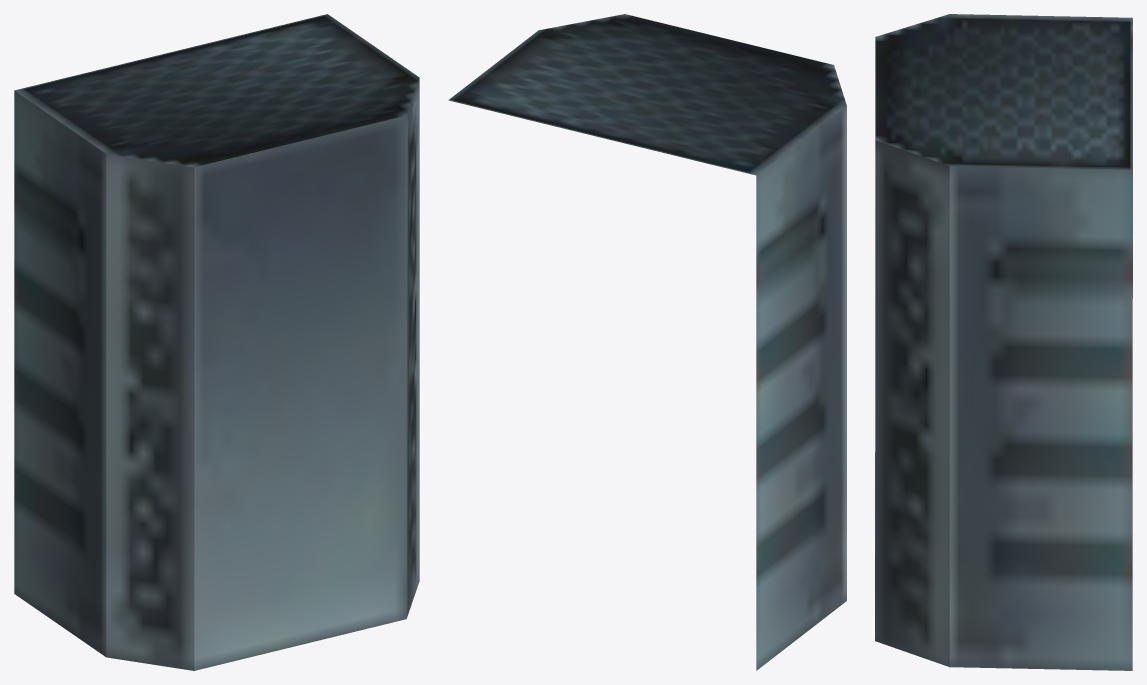
The model's file is Kart 2 Scoop.glb.
The picture shows the model from 3 angles, left to right: view 1: azimuth 30°, elevation 25°; view 2: azimuth 150°, elevation 25°; view 3: azimuth 270°, elevation 25°; orthographic projection.
Visible parts, largest first — view 1: SCOOP; view 2: SCOOP; view 3: SCOOP.
Boxes of the visible parts, box(x1,y1,x2,y2) form: SCOOP: box(14, 14, 419, 670); SCOOP: box(448, 14, 846, 670); SCOOP: box(875, 14, 1132, 670).
Size of the model in its own units: 0.4178 by 0.6485 by 0.2991.
1 material, 1 textured.
